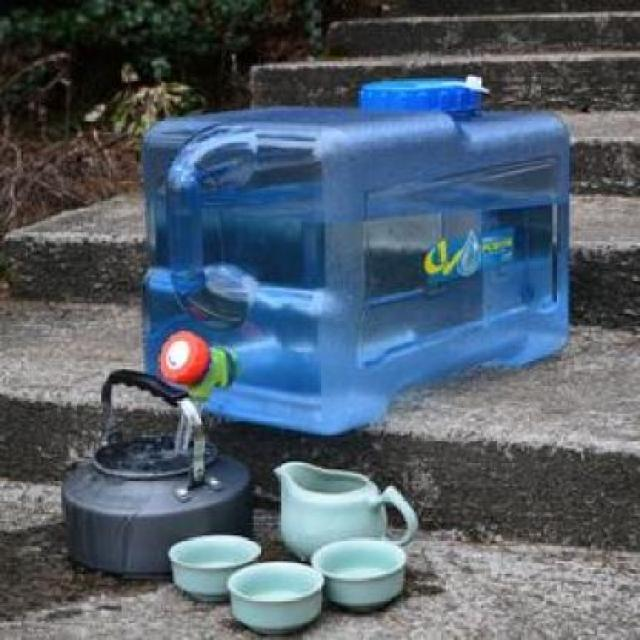coolerbottle: (140, 77, 577, 437)
